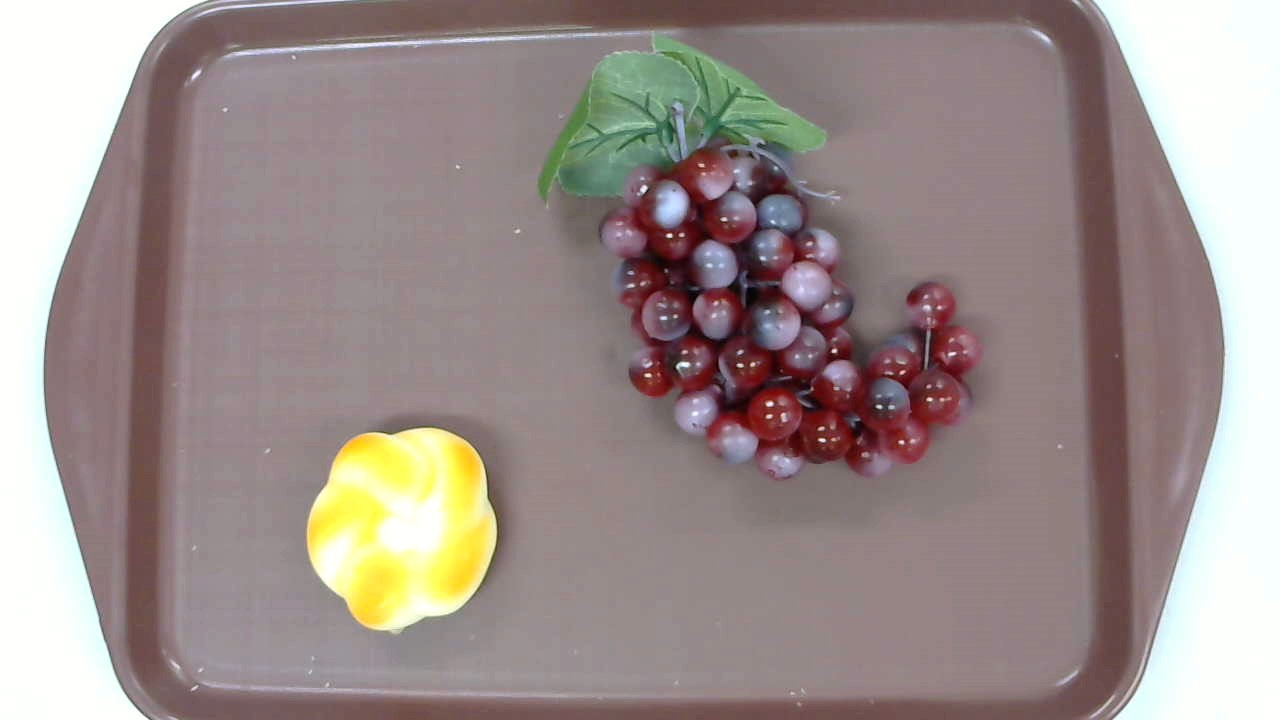grape: (538, 31, 982, 481)
twist bread: (305, 427, 497, 634)
